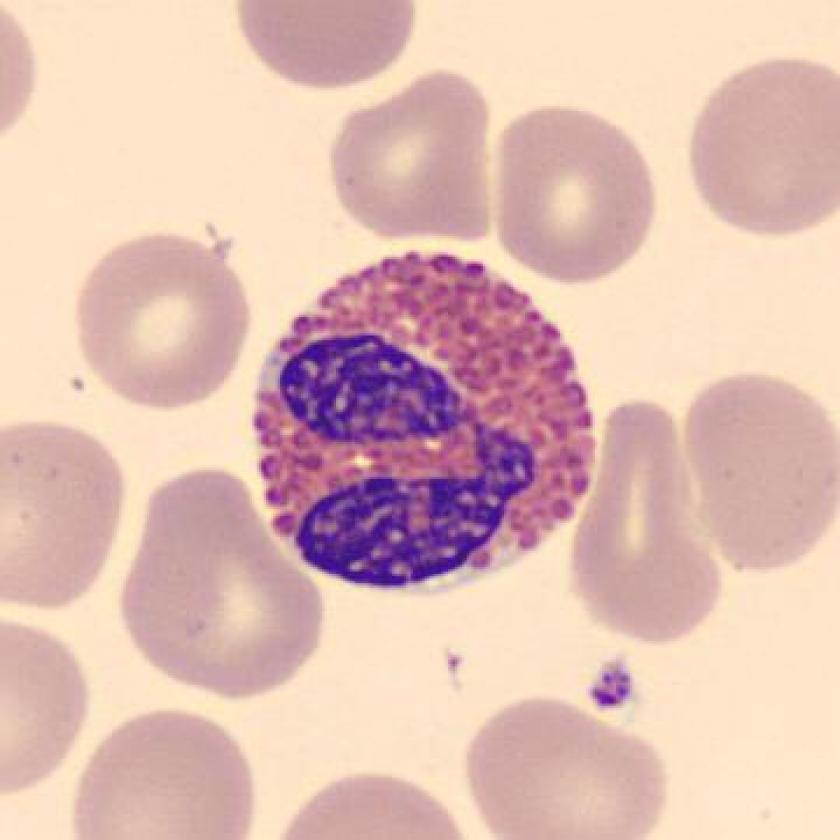eosinophil: (239, 235, 612, 612)
